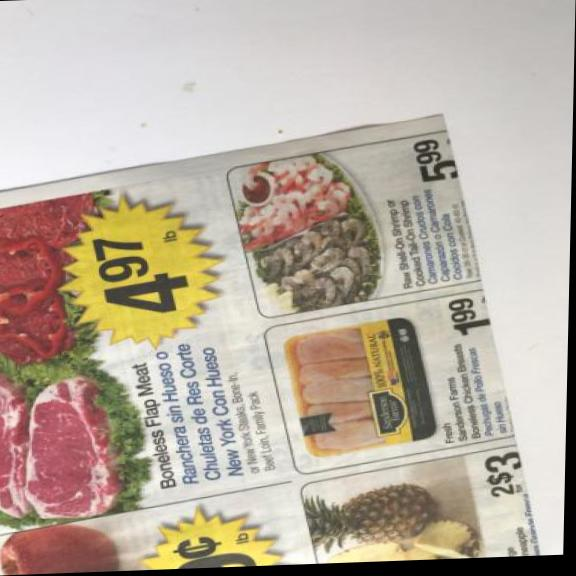Kertas: (0, 96, 558, 576)
